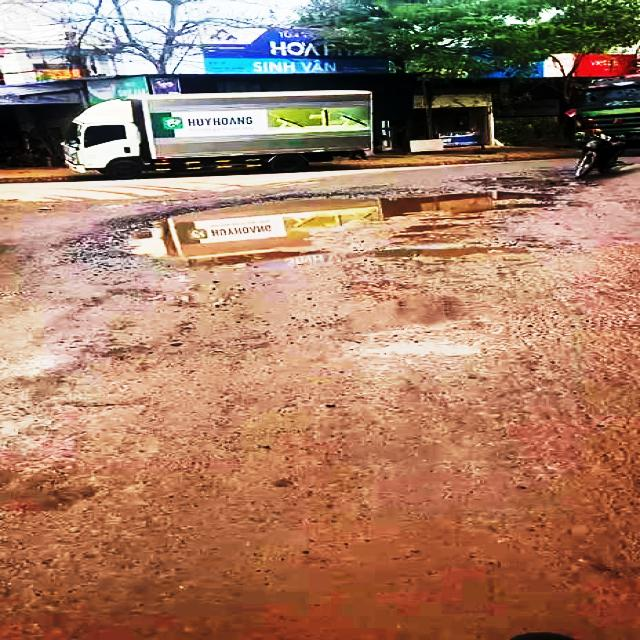pothole: (113, 188, 588, 266)
